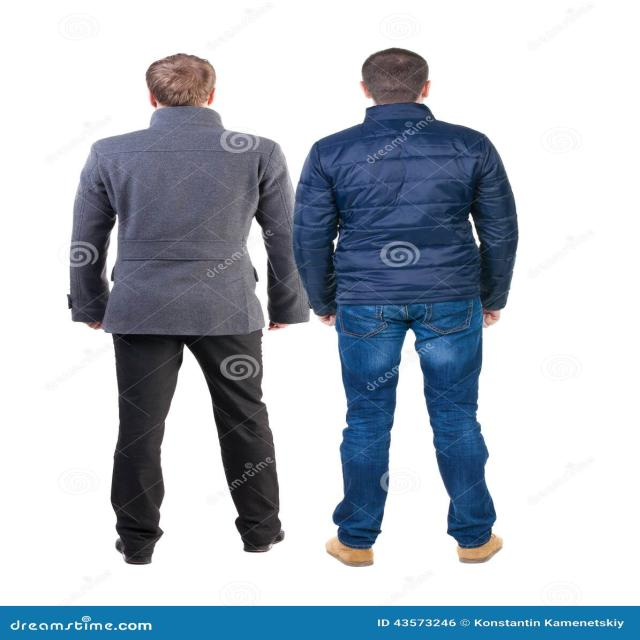adult: (66, 50, 308, 564), (300, 49, 519, 567)
